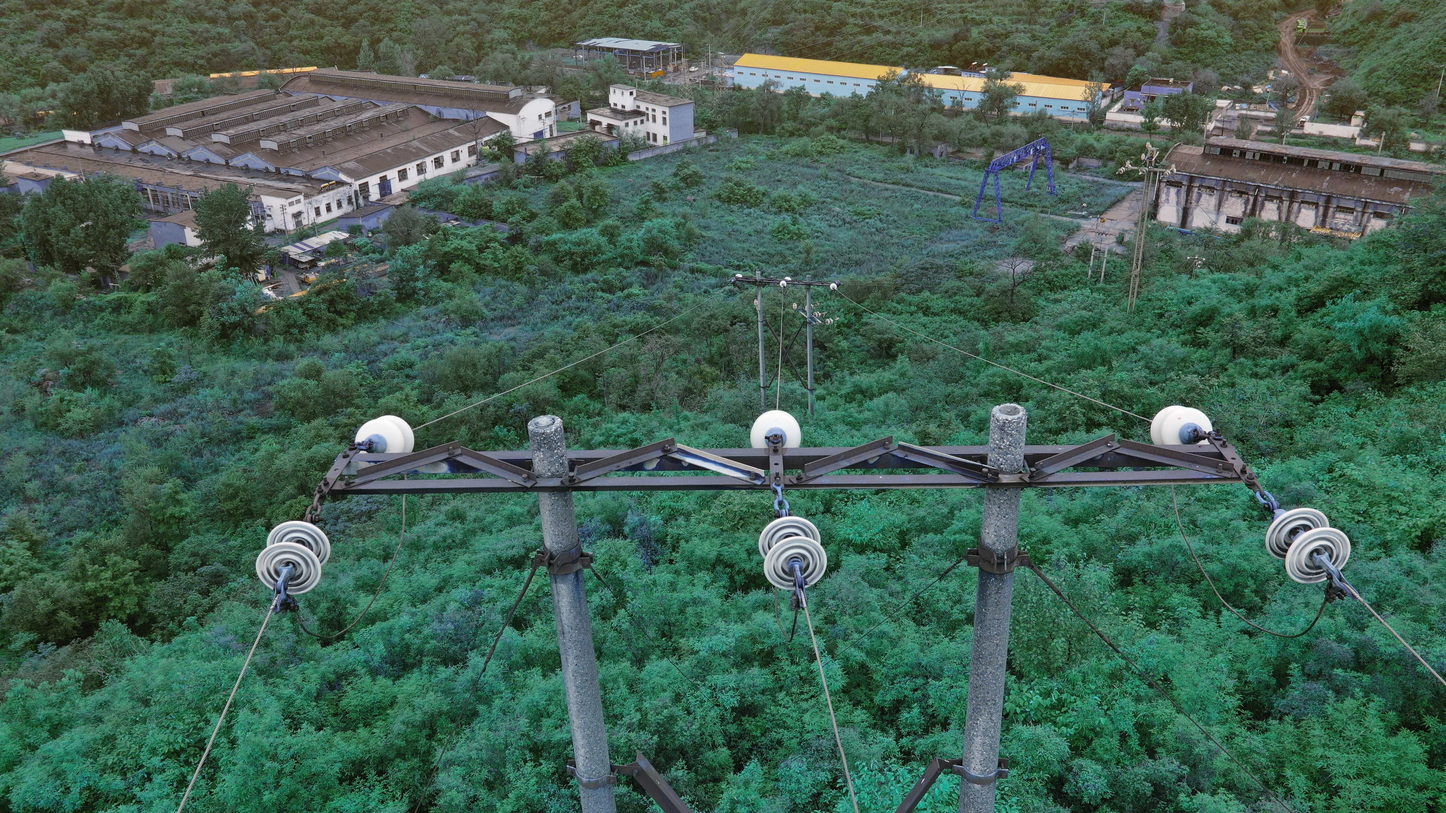severe_soiling_no_discharge_whole: (1264, 502, 1353, 586), (254, 518, 339, 597), (756, 514, 829, 591)
